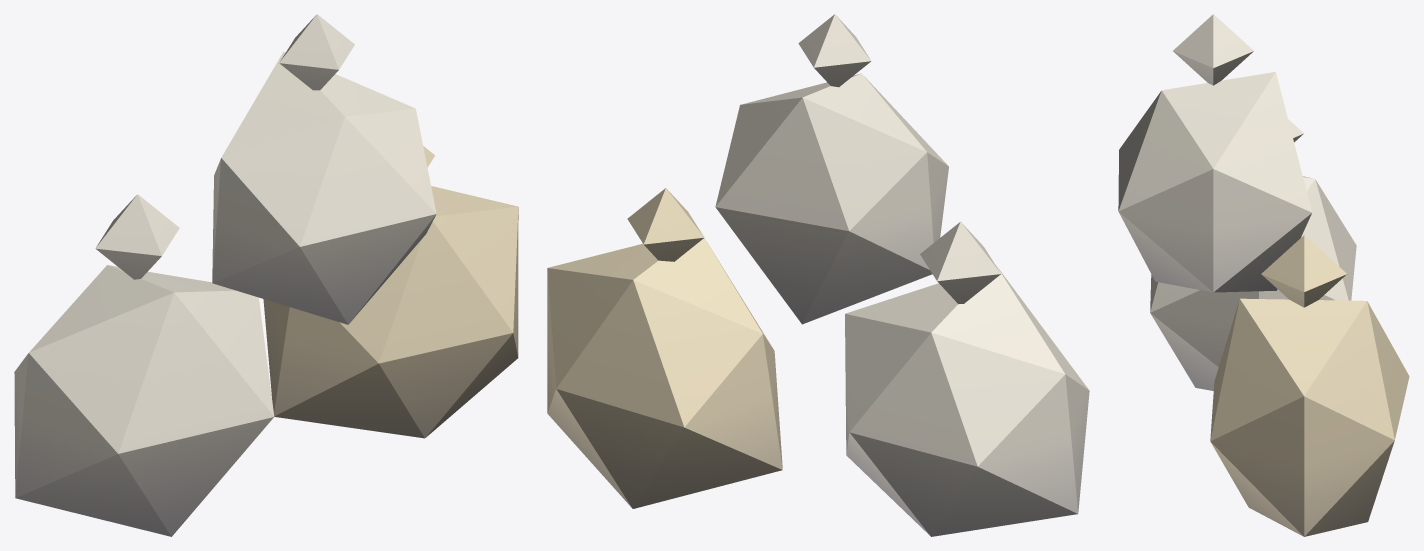
Rendered from sack_pile.glb.
3 views of the same model, side by side, from view 1: azimuth 30°, elevation 25°; view 2: azimuth 150°, elevation 25°; view 3: azimuth 270°, elevation 25° (orthographic). The views are drawn at different scales.
Visible parts, largest first — view 1: sack_pile; view 2: sack_pile; view 3: sack_pile.
Boxes of the visible parts, left/top/right/bottom form: sack_pile: left=14, top=14, right=518, bottom=536; sack_pile: left=547, top=14, right=1089, bottom=536; sack_pile: left=1118, top=14, right=1409, bottom=536.
Bounding box in the file's own units: 3.74 × 3.29 × 1.92.
1 material, 1 textured.
